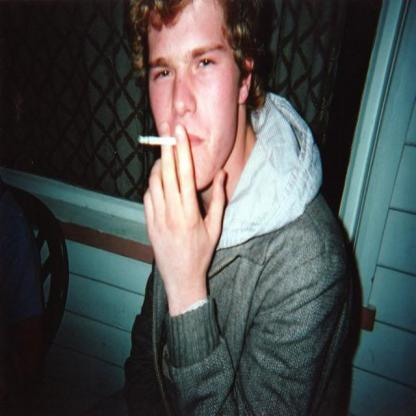smoking: (138, 136, 187, 146)
